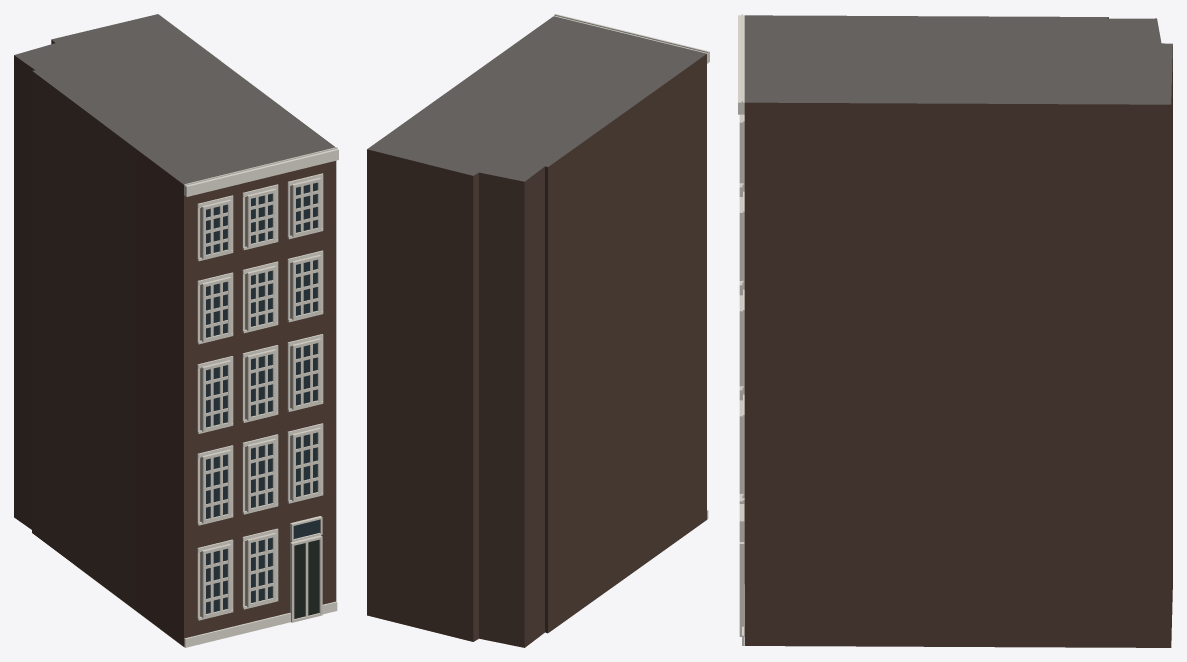
3 views of the same model, side by side, from view 1: azimuth 30°, elevation 25°; view 2: azimuth 150°, elevation 25°; view 3: azimuth 270°, elevation 25° (orthographic). The views are drawn at different scales.
Visible parts, largest first — view 1: spec-0363100012174417; view 2: spec-0363100012174417; view 3: spec-0363100012174417.
Boxes of the visible parts, <box> form: spec-0363100012174417: <box>14,14,338,647</box>; spec-0363100012174417: <box>367,14,709,647</box>; spec-0363100012174417: <box>738,14,1172,647</box>.
Bounding box in the file's own units: 5.58 × 15.86 × 11.47.
